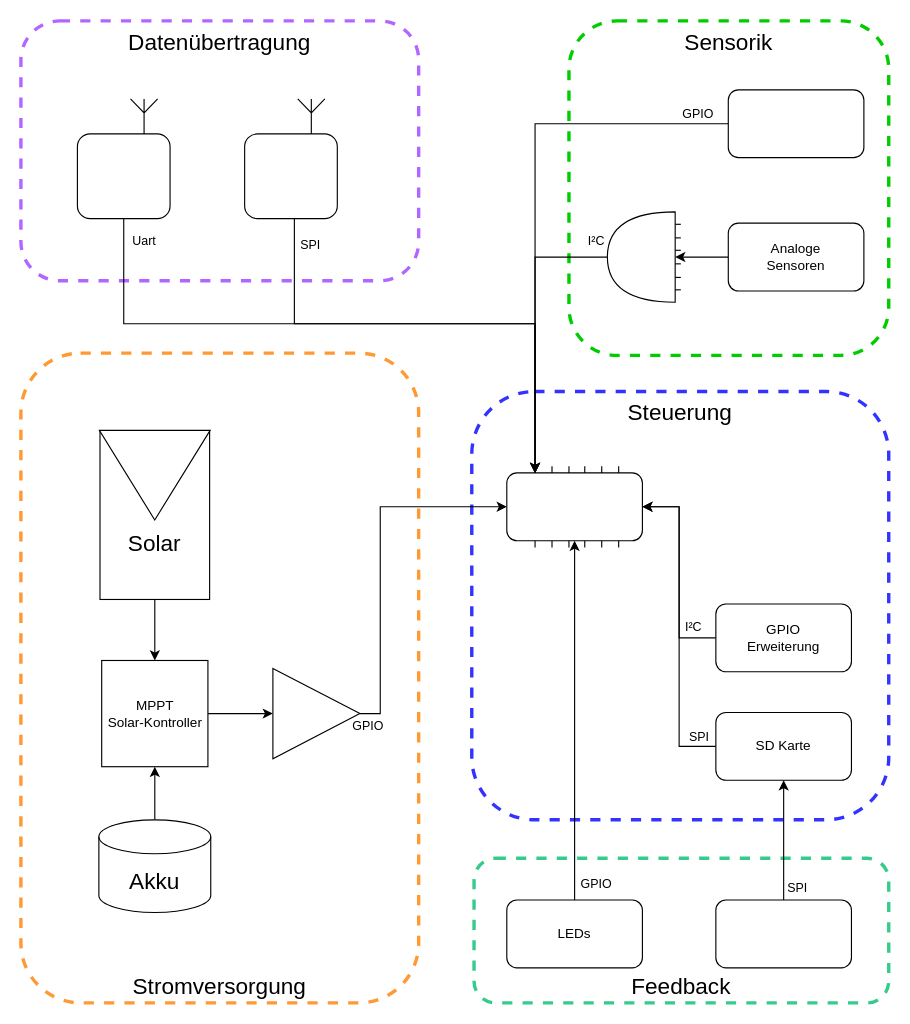
Image size: 910x1024. Some labels were removed from this diagram. Each missing label, with the centre of its shape:
"ADC" belongs at [640,256].
"Digitale Sensoren" belongs at [795,123].
"Display" belongs at [783,933].
"GSM" belongs at [123,176].
"LoRa" belongs at [290,176].
"MCU" belongs at [574,506].
"Timer" belongs at [316,713].
